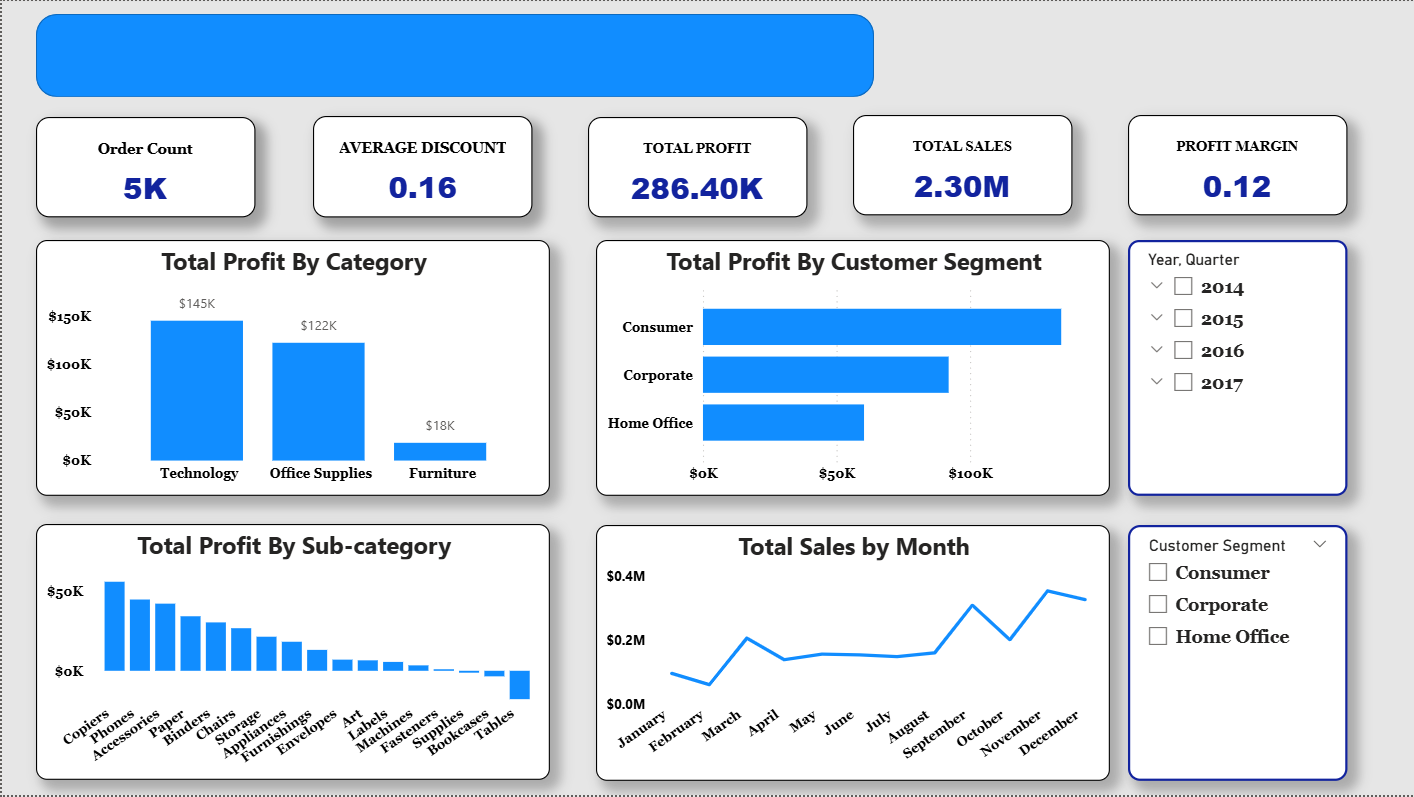

What the dashboard file says about the page in this screenshot:
{"tool":"powerbi","page":{"name":"Sales Overview","canvas":[1280,720],"ordinal":0},"visuals":[{"type":"lineChart","title":"Total Sales by Month","fields":{"Y":["Sum(Orders.Sales)"],"Category":["Orders.Order Date.Variation.Date Hierarchy.Month"]},"box":[538.6,475.2,466.1,232.1],"z":0},{"type":"cardVisual","fields":{"Data":["Orders.AVERAGE DISCOUNT"]},"box":[282,104.3,199.5,91.6],"z":1000},{"type":"cardVisual","fields":{"Data":["Orders.Order Count"]},"box":[30.8,105.2,198.6,90.7],"z":2000},{"type":"barChart","title":"Total Profit By Customer Segment","fields":{"Category":["Customers.Customer Segment"],"Y":["Sum(Orders.Profit)"]},"box":[538.6,216.7,466.1,232.1],"z":3000},{"type":"lineStackedColumnComboChart","title":"Total Profit By Category","fields":{"Category":["Products.Category"],"Y":["Sum(Orders.Profit)"]},"box":[30.8,216.7,466,232],"z":4000},{"type":"lineStackedColumnComboChart","title":"Total Profit By Sub-category","fields":{"Category":["Products.Sub-Category"],"Y":["Sum(Orders.Profit)"]},"box":[30.8,474.3,466.1,232.1],"z":5000},{"type":"cardVisual","fields":{"Data":["Orders.TOTAL SALES"]},"box":[771.7,103.4,198.6,90.7],"z":6000},{"type":"cardVisual","fields":{"Data":["Orders.PROFIT MARGIN"]},"box":[1021.1,103.4,198.6,90.7],"z":7000},{"type":"slicer","fields":{"Values":["Orders.Order Date.Variation.Date Hierarchy.Year","Orders.Order Date.Variation.Date Hierarchy.Quarter"]},"box":[1021.1,216.7,198.6,232.1],"z":8000},{"type":"slicer","fields":{"Values":["Customers.Customer Segment"]},"box":[1021,475,199,232],"z":9000},{"type":"cardVisual","fields":{"Data":["Orders.TOTAL PROFIT"]},"box":[531.4,105.2,198.6,90.7],"z":10000},{"type":"textbox","box":[31,19,649,70],"z":11000}]}

Visuals, with their boxes in screenshot pixels (x1, y1, x2, y2), scaled from the page's 1280x720 canvas onto the 1414x797 screenshot:
"Total Sales by Month" lineChart: Rect(595, 526, 1110, 783)
cardVisual - Orders.AVERAGE DISCOUNT: Rect(312, 115, 532, 217)
cardVisual - Orders.Order Count: Rect(34, 116, 253, 217)
"Total Profit By Customer Segment" barChart: Rect(595, 240, 1110, 497)
"Total Profit By Category" lineStackedColumnComboChart: Rect(34, 240, 549, 497)
"Total Profit By Sub-category" lineStackedColumnComboChart: Rect(34, 525, 549, 782)
cardVisual - Orders.TOTAL SALES: Rect(852, 114, 1072, 215)
cardVisual - Orders.PROFIT MARGIN: Rect(1128, 114, 1347, 215)
slicer - Orders.Order Date.Variation.Date Hierarchy.Year x Orders.Order Date.Variation.Date Hierarchy.Quarter: Rect(1128, 240, 1347, 497)
slicer - Customers.Customer Segment: Rect(1128, 526, 1348, 783)
cardVisual - Orders.TOTAL PROFIT: Rect(587, 116, 806, 217)
textbox: Rect(34, 21, 751, 99)
